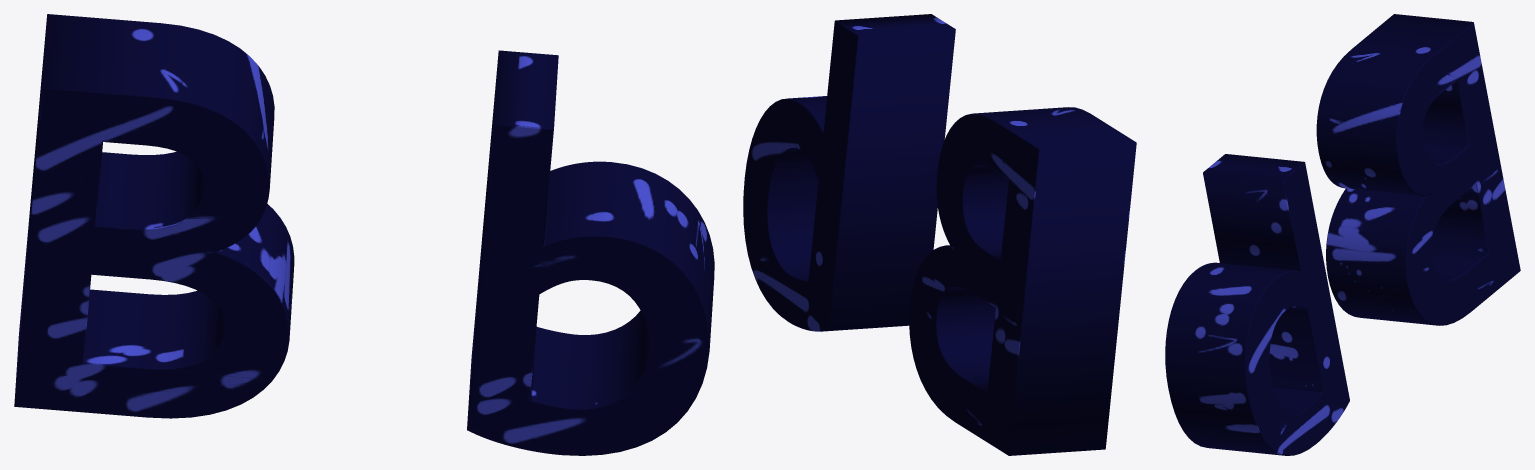
The model's file is ObjectB.fbx.
The picture shows the model from 3 angles, left to right: view 1: azimuth 30°, elevation 25°; view 2: azimuth 150°, elevation 25°; view 3: azimuth 270°, elevation 25°; orthographic projection. The views are drawn at different scales.
Visible parts, largest first — view 1: node_id4; view 2: node_id4; view 3: node_id4.
Boxes of the visible parts, box(x1,y1,x2,y2) form: node_id4: box(14, 14, 714, 455); node_id4: box(743, 14, 1136, 455); node_id4: box(1165, 14, 1520, 455).
Bounding box in the file's own units: 0.4786 × 0.326 × 0.3602.
Materials: 1 (1 with a texture image).
